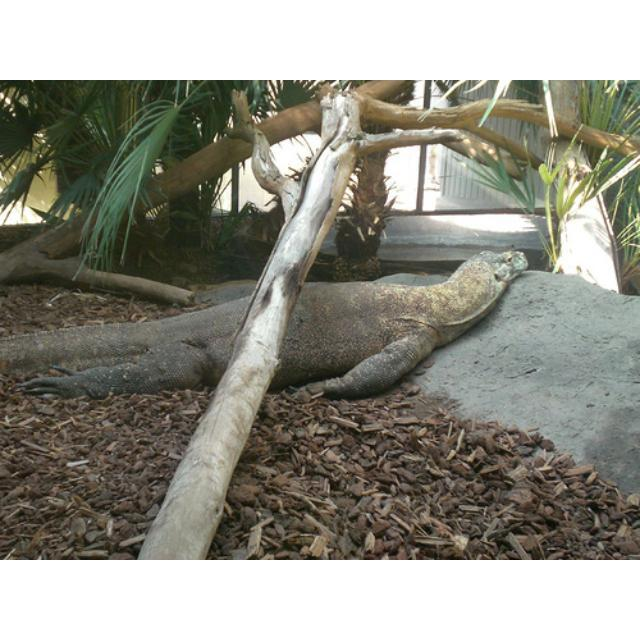KomodoDragon: (1, 243, 532, 406)
